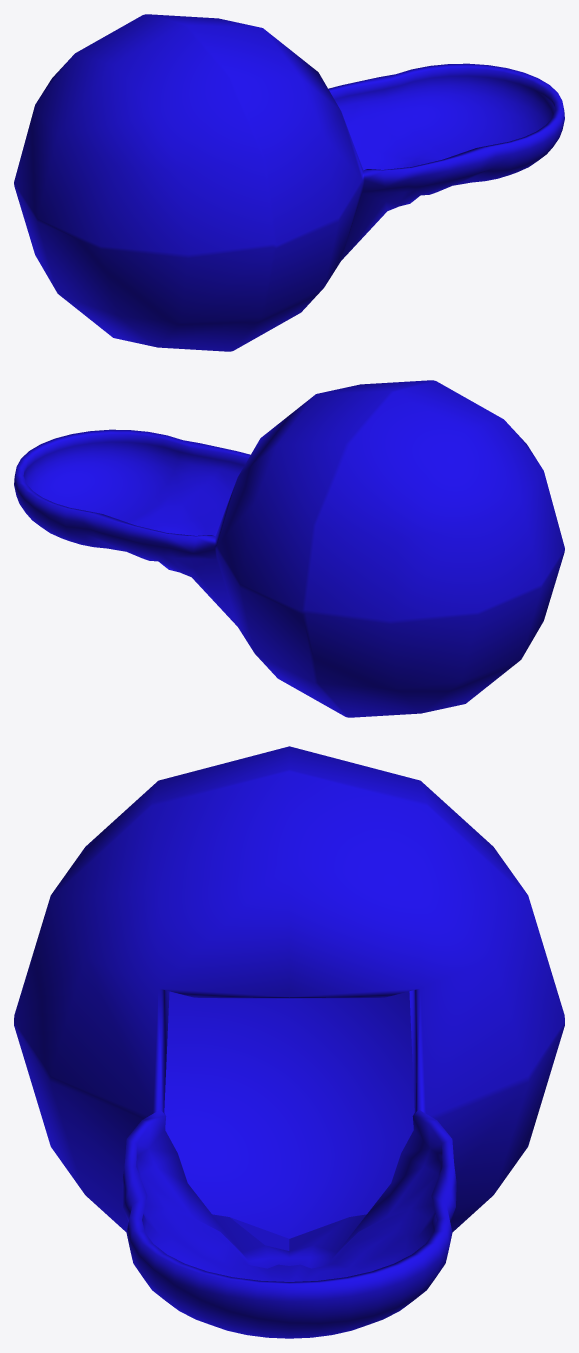
The model's file is Cannon_Complete.fbx.
3 renders of one model, top to bottom at view 1: azimuth 30°, elevation 25°; view 2: azimuth 150°, elevation 25°; view 3: azimuth 270°, elevation 25°, orthographic. The views are drawn at different scales.
Parts seen in each view (by area): view 1: Cube.001; view 2: Cube.001; view 3: Cube.001.
Boxes of the visible parts, x1,y1,x2,y2 form: Cube.001: [14, 14, 564, 351]; Cube.001: [14, 380, 564, 717]; Cube.001: [14, 746, 564, 1338].
Size of the model in its own units: 21.97 by 37.49 by 21.97.
